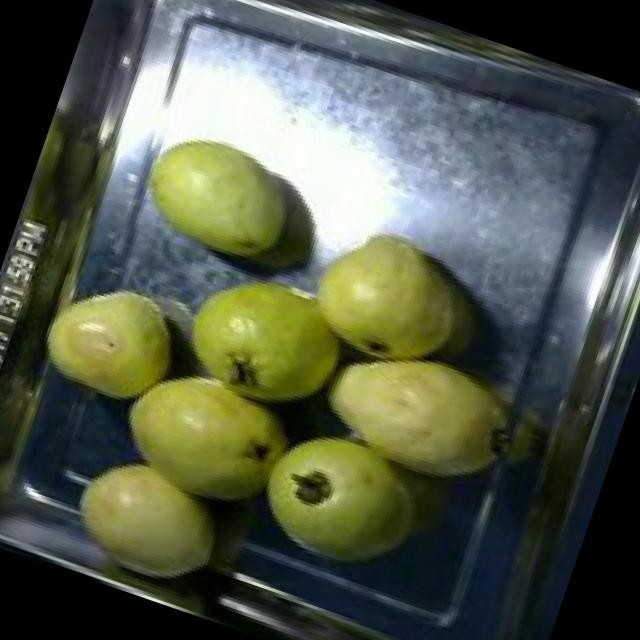Fruit: (291, 312, 534, 513), (282, 198, 504, 404), (156, 243, 378, 428), (95, 354, 314, 534), (235, 404, 438, 592), (116, 105, 326, 281), (48, 434, 245, 611), (22, 253, 202, 427)
